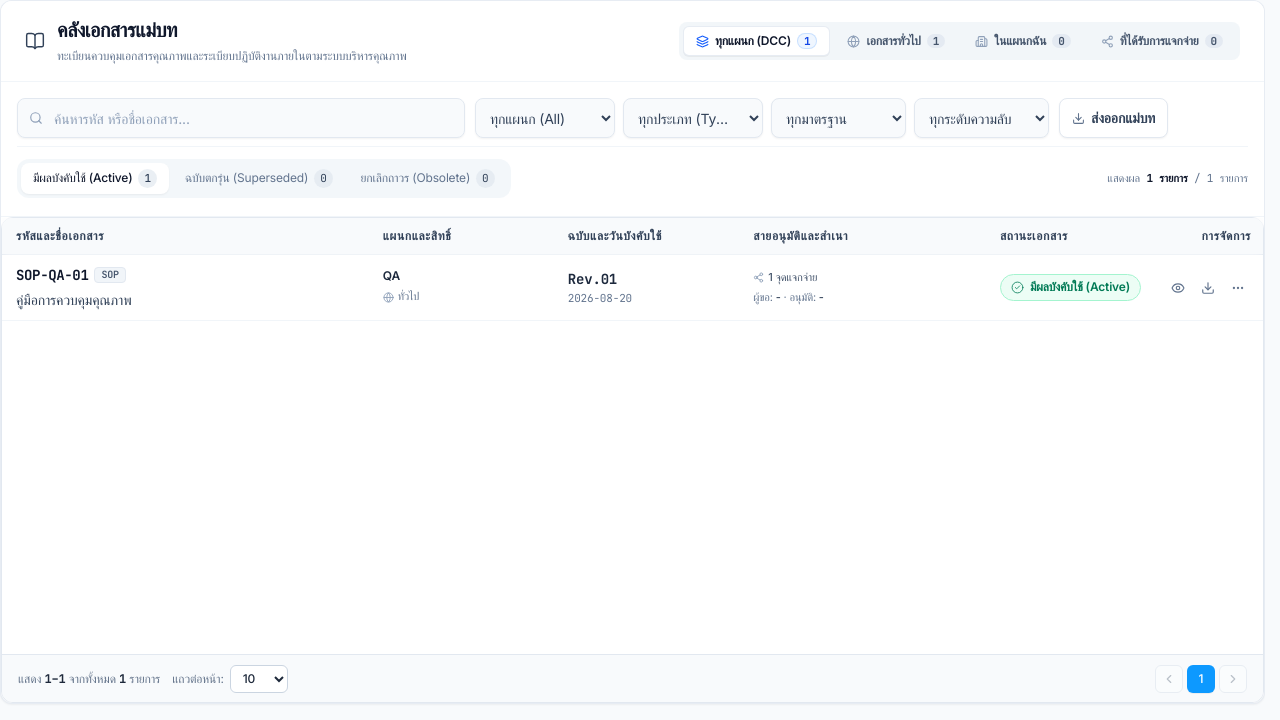
Scenario: Library Figma UI3 Action Dock & Overflow Menu Tests › 2. Clicking MoreHorizontal toggles the Overflow Menu with semantic Thai labels
QA GENERAL doc for a DC user lives in the General tab (default tab is My Dept)
Click the button "เอกสารทั่วไป 1": (896, 41) [834,26,958,56]
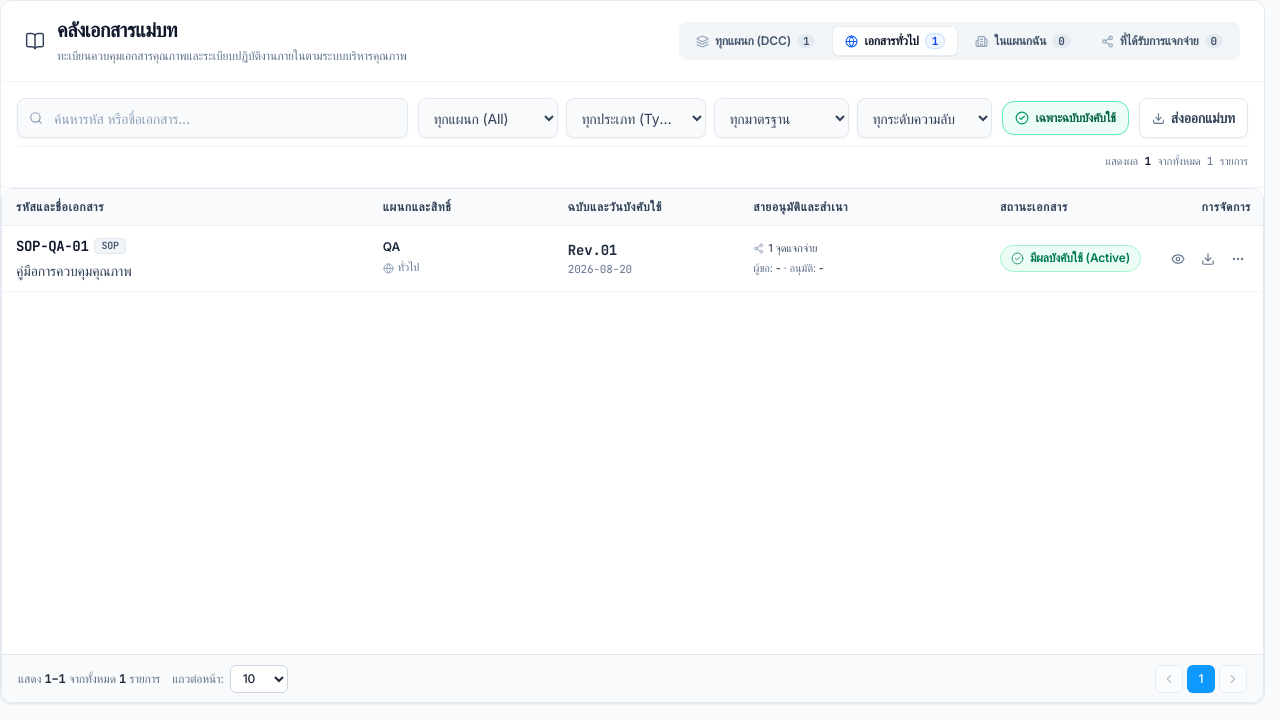
Click the button titled "เมนูการจัดการเพิ่มเติม": (1238, 258) [1225,246,1251,272]
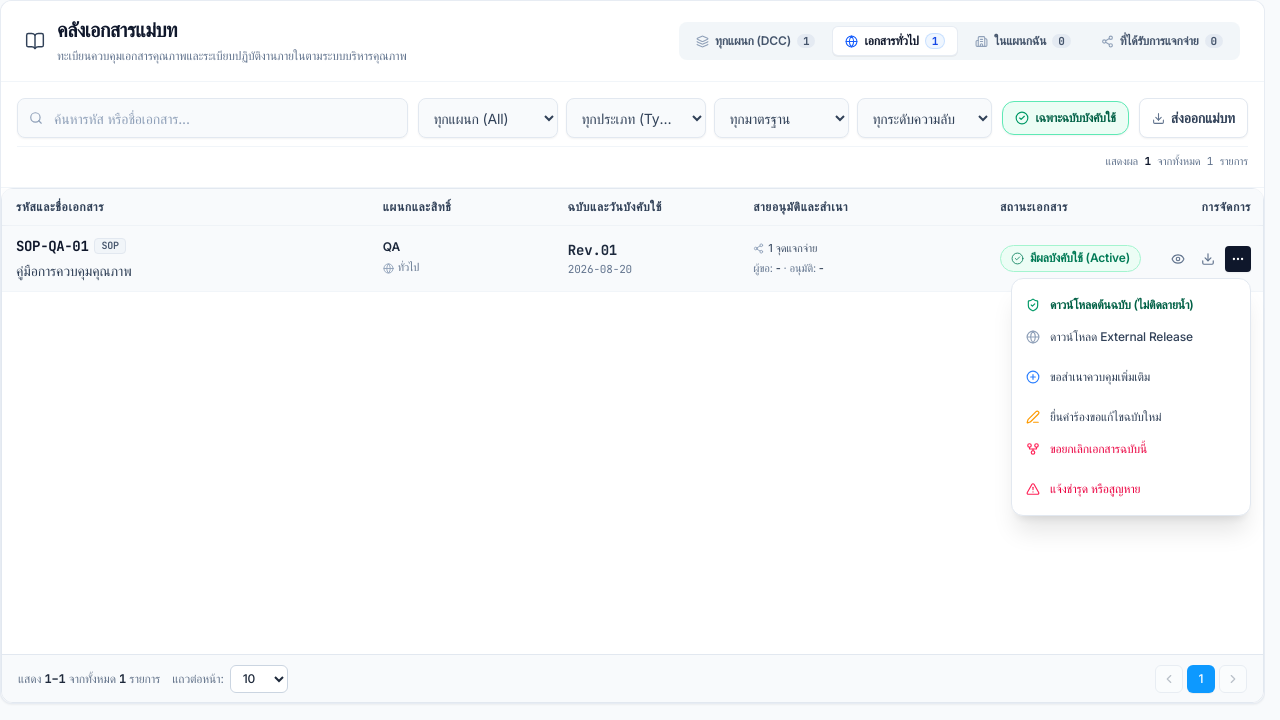
Expected: the text "ดาวน์โหลด External Release" is shown, [1050,329,1193,345]
Expected: the text "ขอสำเนาควบคุมเพิ่มเติม" is shown, [1050,369,1150,385]
Expected: the text "ยื่นคำร้องขอแก้ไขฉบับใหม่" is shown, [1050,409,1161,425]
